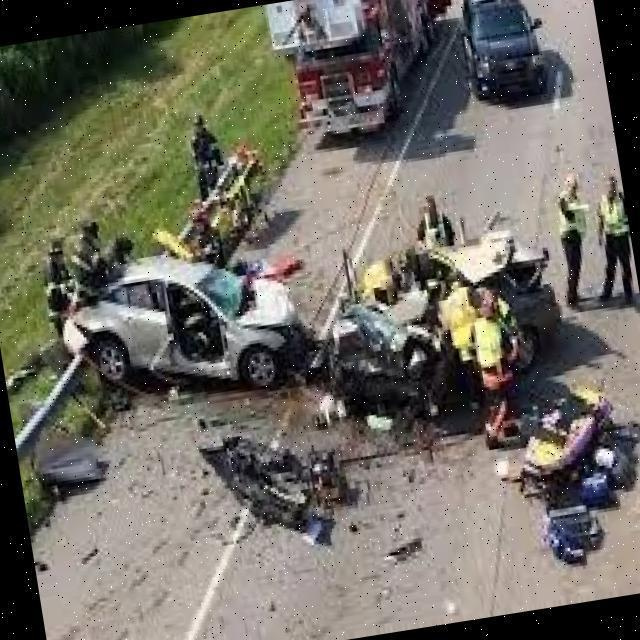accident: (51, 145, 579, 506)
